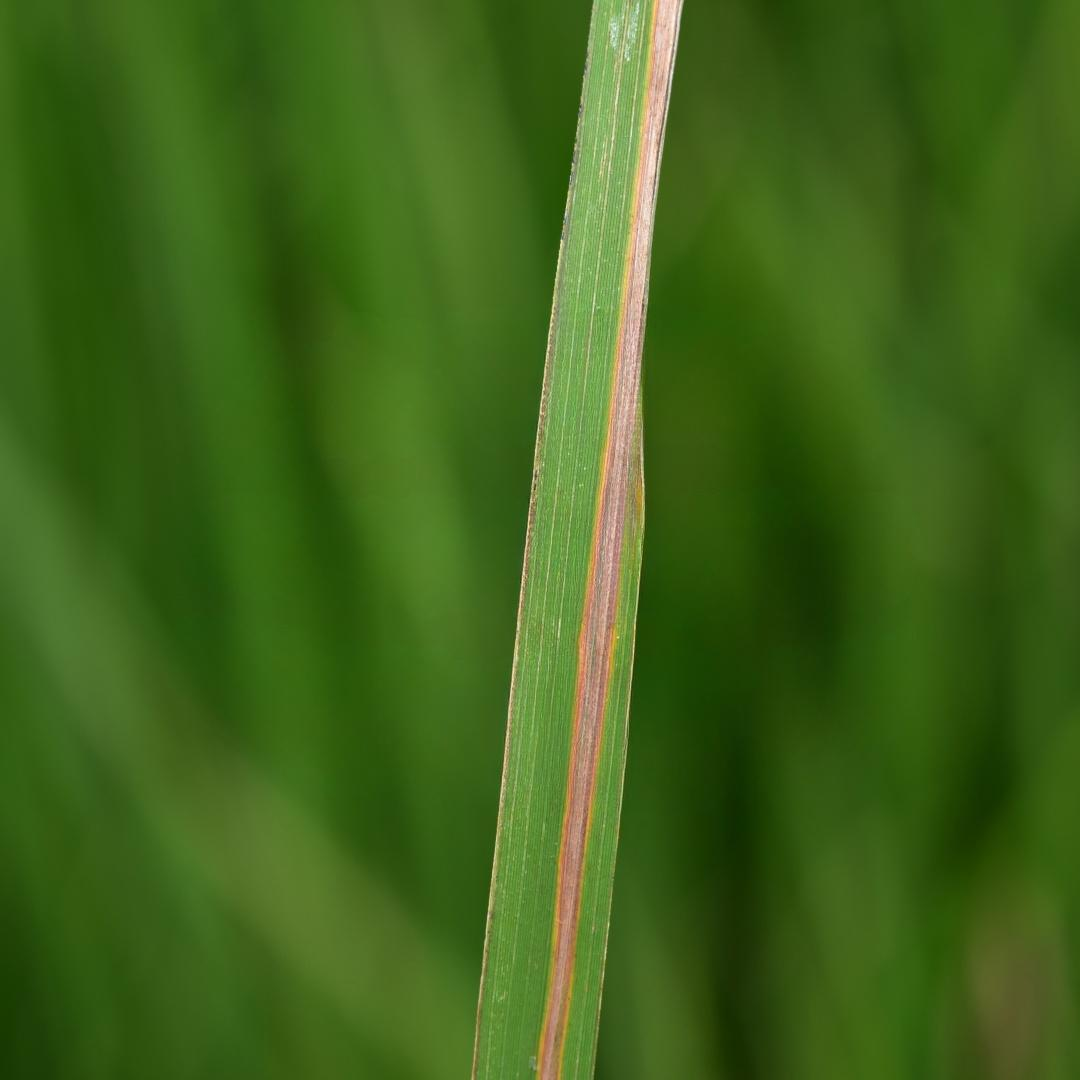BLB: (538, 0, 684, 1079)
